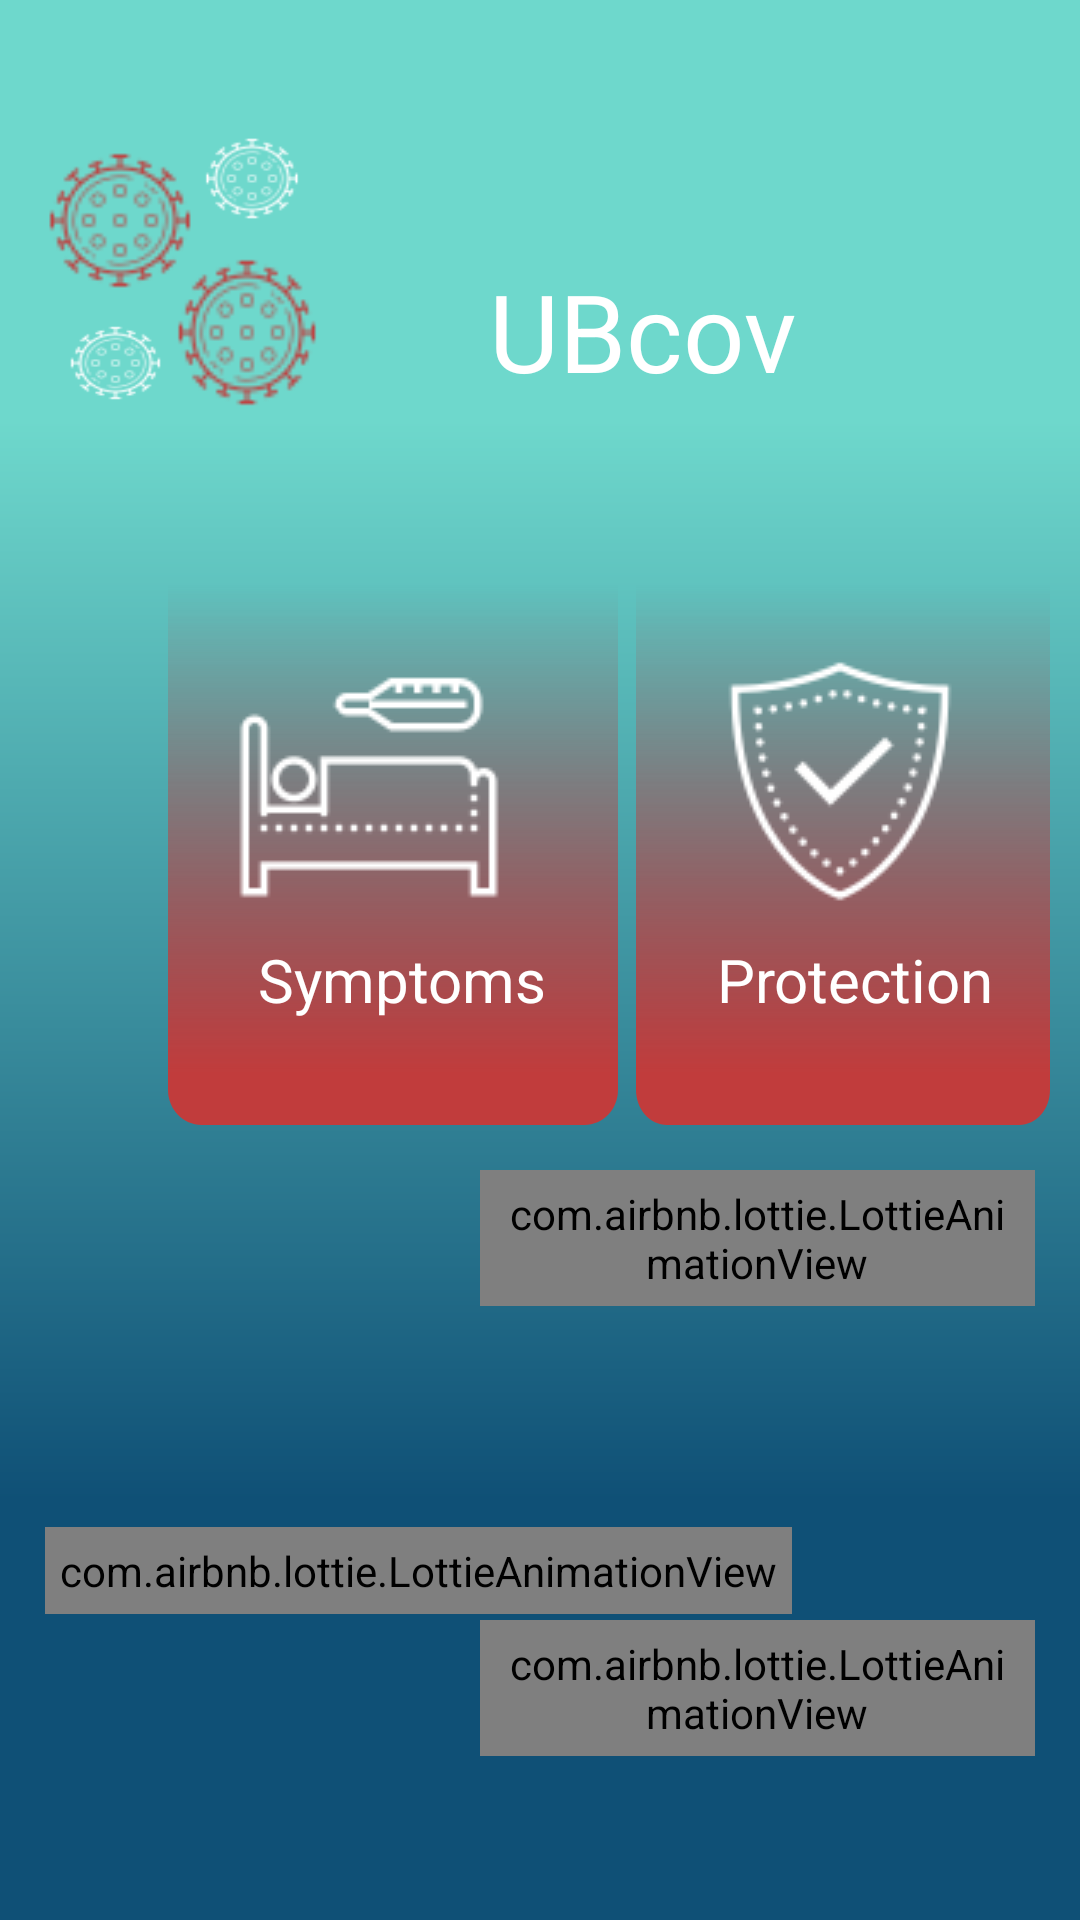

Screen size 1080×1920. Icon name, then its center in pixels as point (x, y):
corona: point (252, 178), point (120, 220), point (247, 332), point (115, 363)
